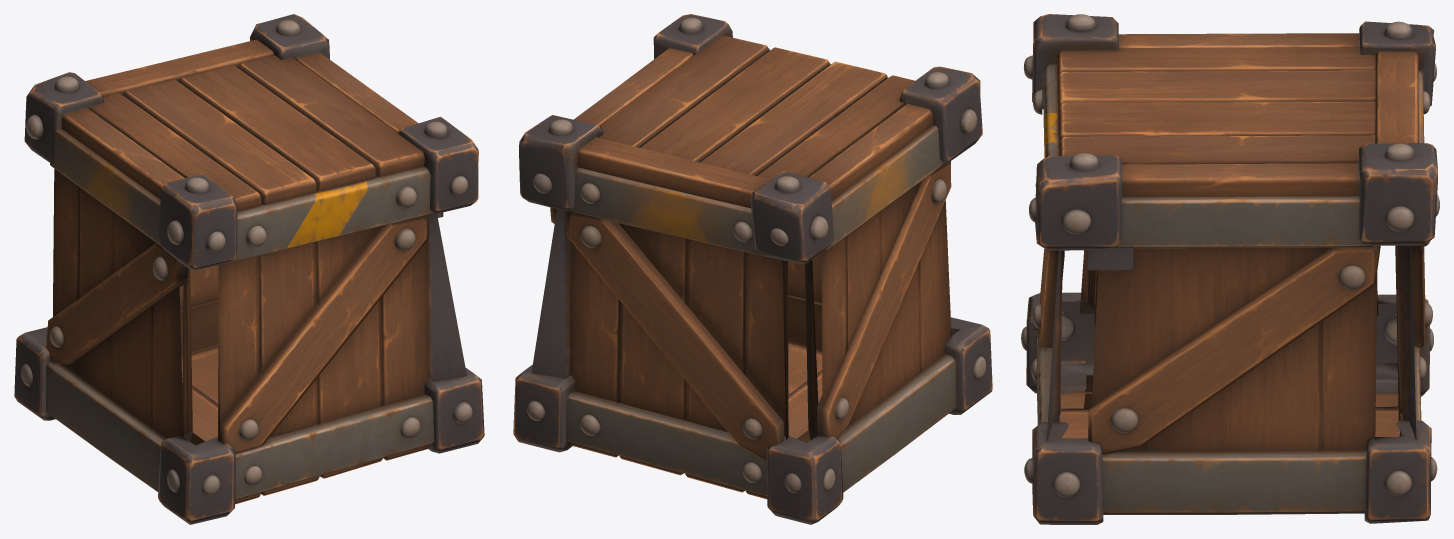
The model's file is crate.fbx.
The picture shows the model from 3 angles, left to right: view 1: azimuth 30°, elevation 25°; view 2: azimuth 150°, elevation 25°; view 3: azimuth 270°, elevation 25°; orthographic projection. The views are drawn at different scales.
Visible parts, largest first — view 1: c01502dd_f43f_4d1b_abed_89e22bbd31b7; view 2: c01502dd_f43f_4d1b_abed_89e22bbd31b7; view 3: c01502dd_f43f_4d1b_abed_89e22bbd31b7.
Part boxes in pixels (x1,y1,x2,y2): c01502dd_f43f_4d1b_abed_89e22bbd31b7: [14, 14, 484, 524]; c01502dd_f43f_4d1b_abed_89e22bbd31b7: [513, 14, 992, 524]; c01502dd_f43f_4d1b_abed_89e22bbd31b7: [1021, 14, 1439, 524].
Bounding box in the file's own units: 118 × 120 × 121.
Materials: 1 (1 with a texture image).
